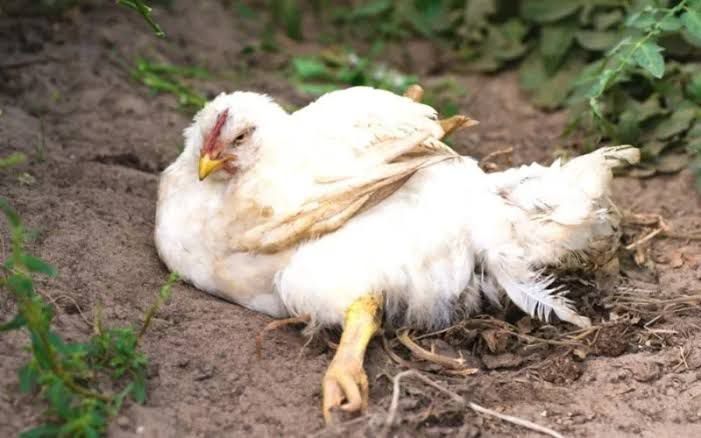Unhealthy: (146, 71, 637, 417)
